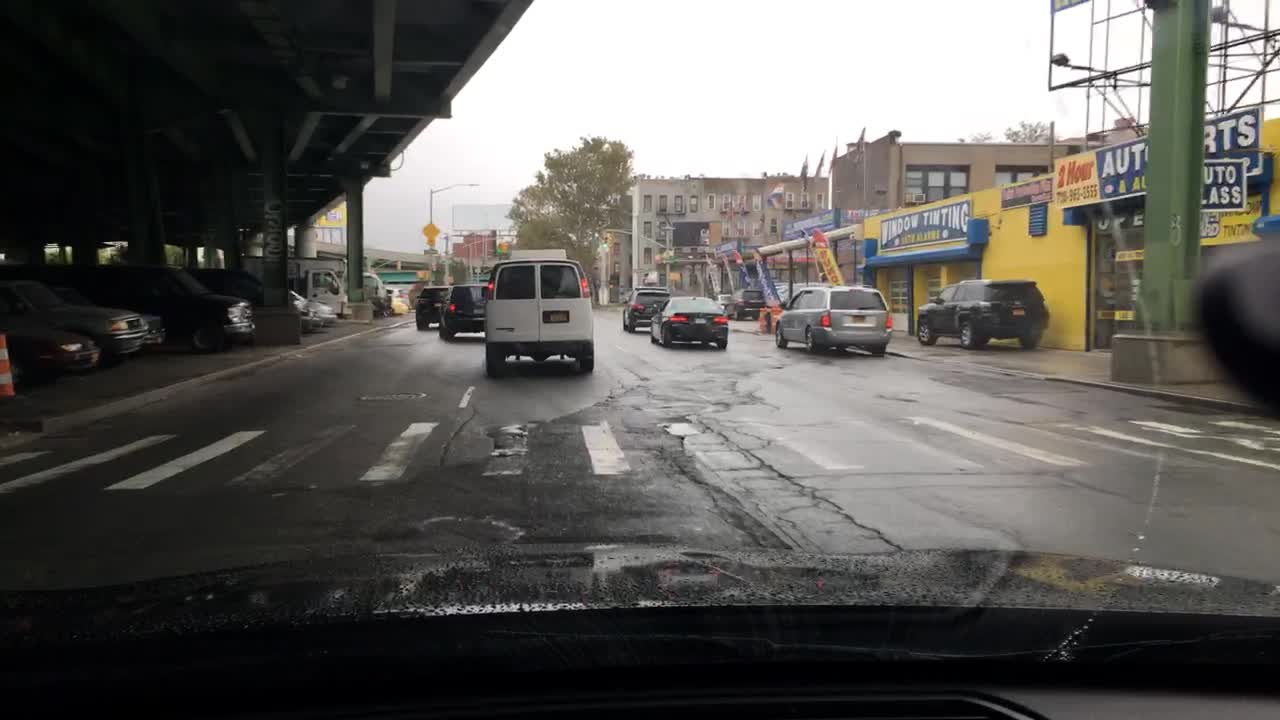car: (0, 255, 254, 351), (482, 247, 596, 378), (0, 282, 147, 370), (0, 276, 170, 346), (915, 276, 1051, 351), (774, 284, 893, 358), (2, 295, 100, 376), (184, 265, 299, 334), (649, 294, 730, 350), (437, 278, 491, 339), (621, 285, 673, 333), (277, 288, 338, 326), (414, 284, 451, 330), (728, 289, 767, 322), (712, 292, 729, 310)
traffic light: (601, 230, 615, 250), (495, 239, 506, 253)
traffic sign: (422, 224, 441, 235), (424, 247, 437, 257), (424, 238, 436, 247)
truck: (240, 257, 392, 311), (268, 268, 358, 313)
